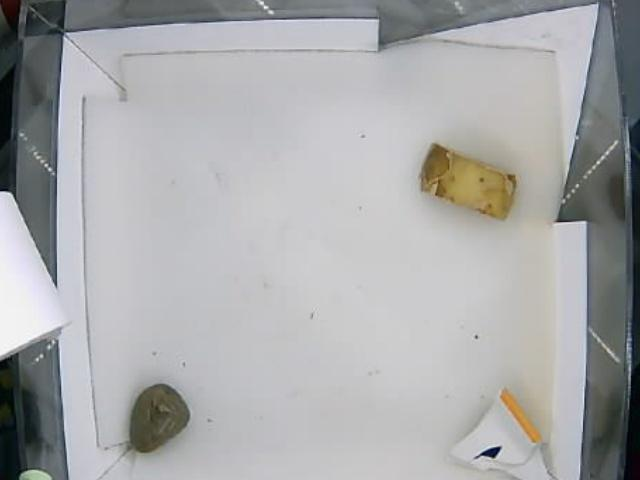China: (448, 385, 563, 480)
Pebble: (125, 383, 191, 452)
Potato: (416, 143, 523, 221)
